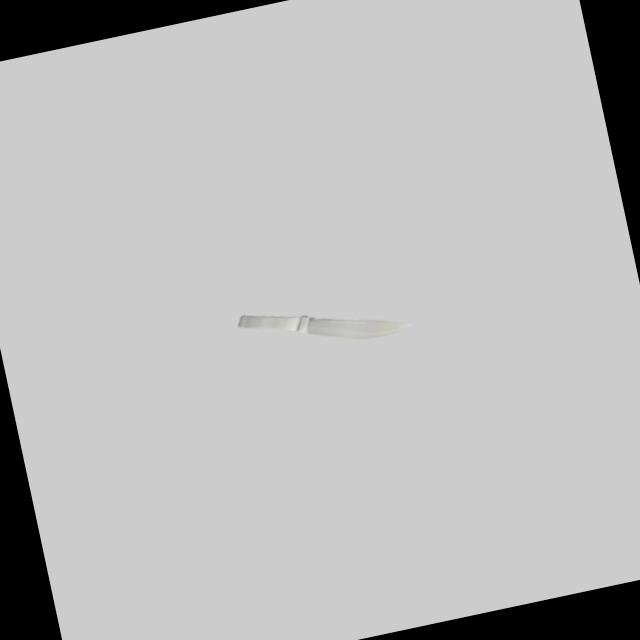knife: (234, 302, 306, 344)
